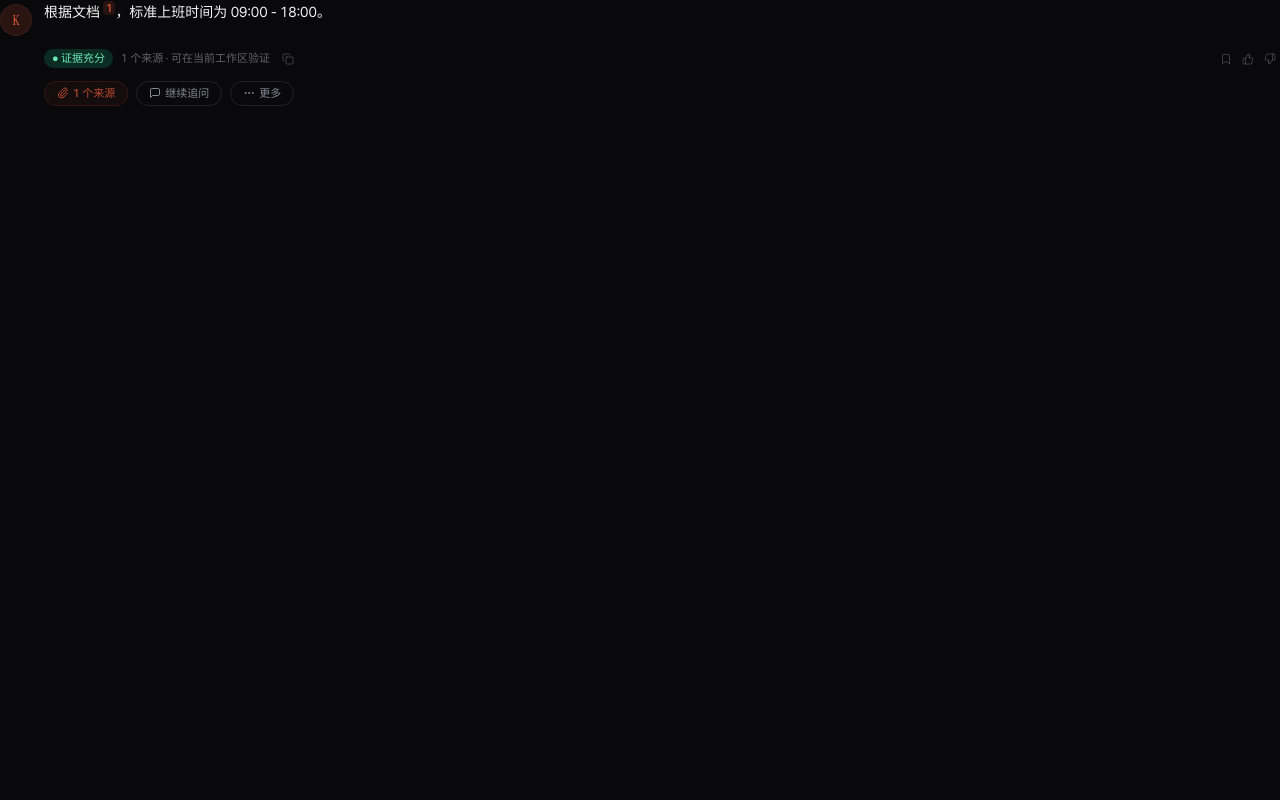
MessageBubble › opens and closes the bookmark dialog, then saves a note
Click the button named "收藏回答" at x=1226, y=58, box x1=1216 y1=48 x2=1236 y2=68
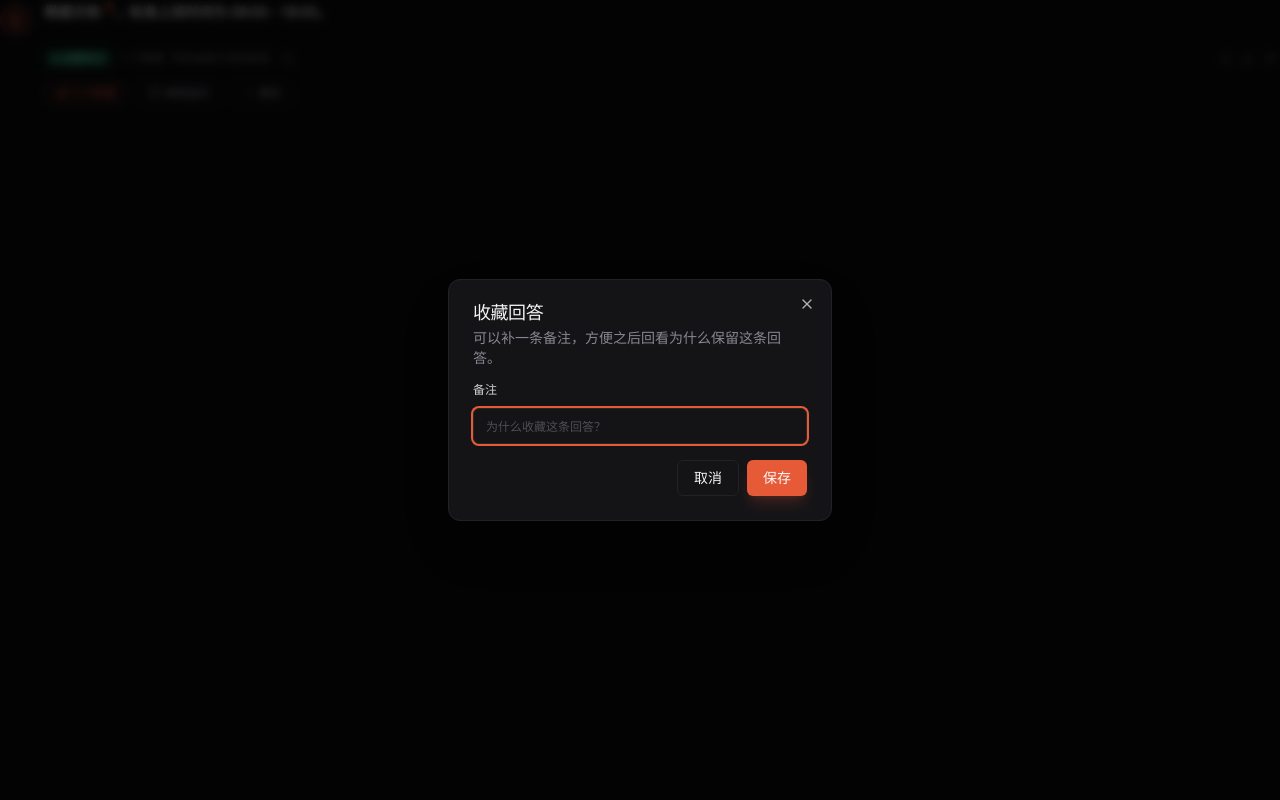
Check: the dialog "收藏回答" is shown, box x1=448 y1=279 x2=832 y2=521
Check: the element with class "inset-0" is shown
Click the element with class "inset-0" at x=77, y=400, box x1=0 y1=0 x2=1279 y2=799
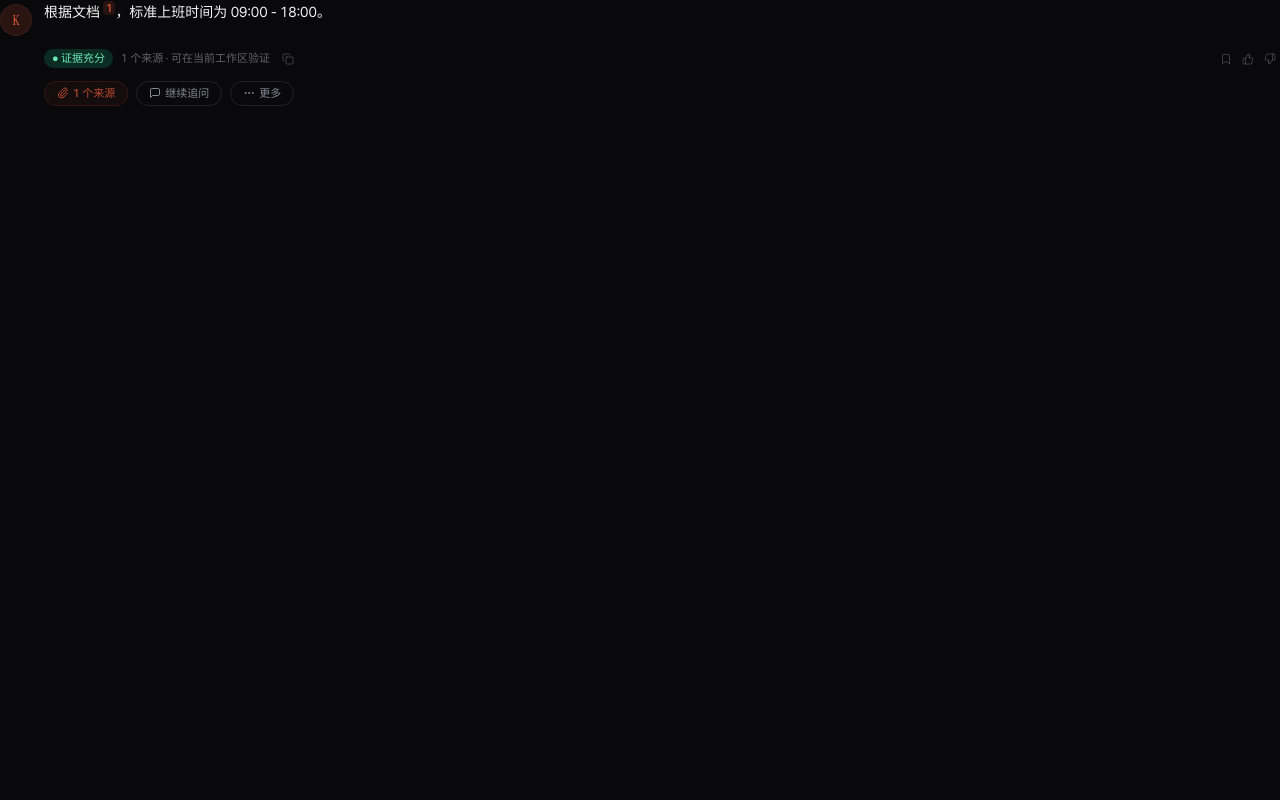
Check: the heading "收藏回答" is gone
Click the button named "收藏回答" at x=1226, y=58, box x1=1216 y1=48 x2=1236 y2=68
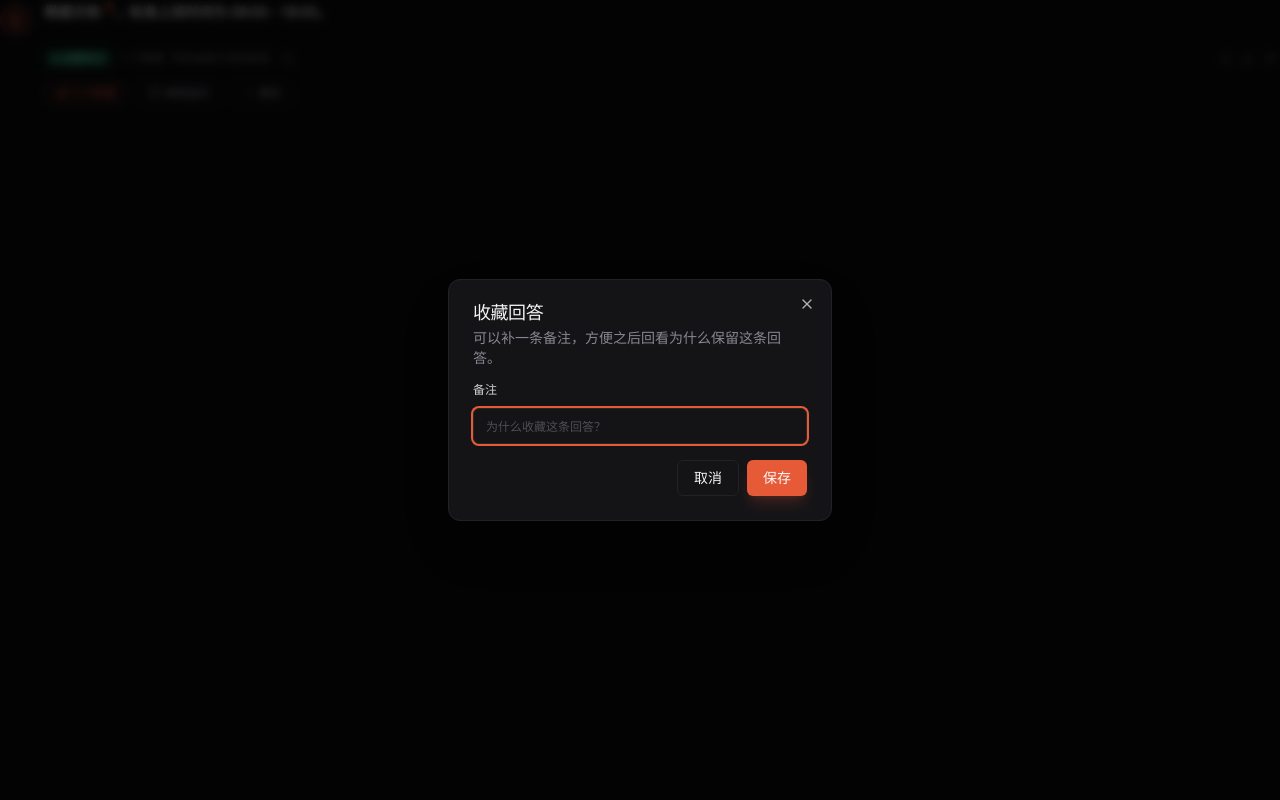
Type "用于核对考勤" into the field labelled "备注" at x=640, y=426, box x1=473 y1=408 x2=807 y2=444
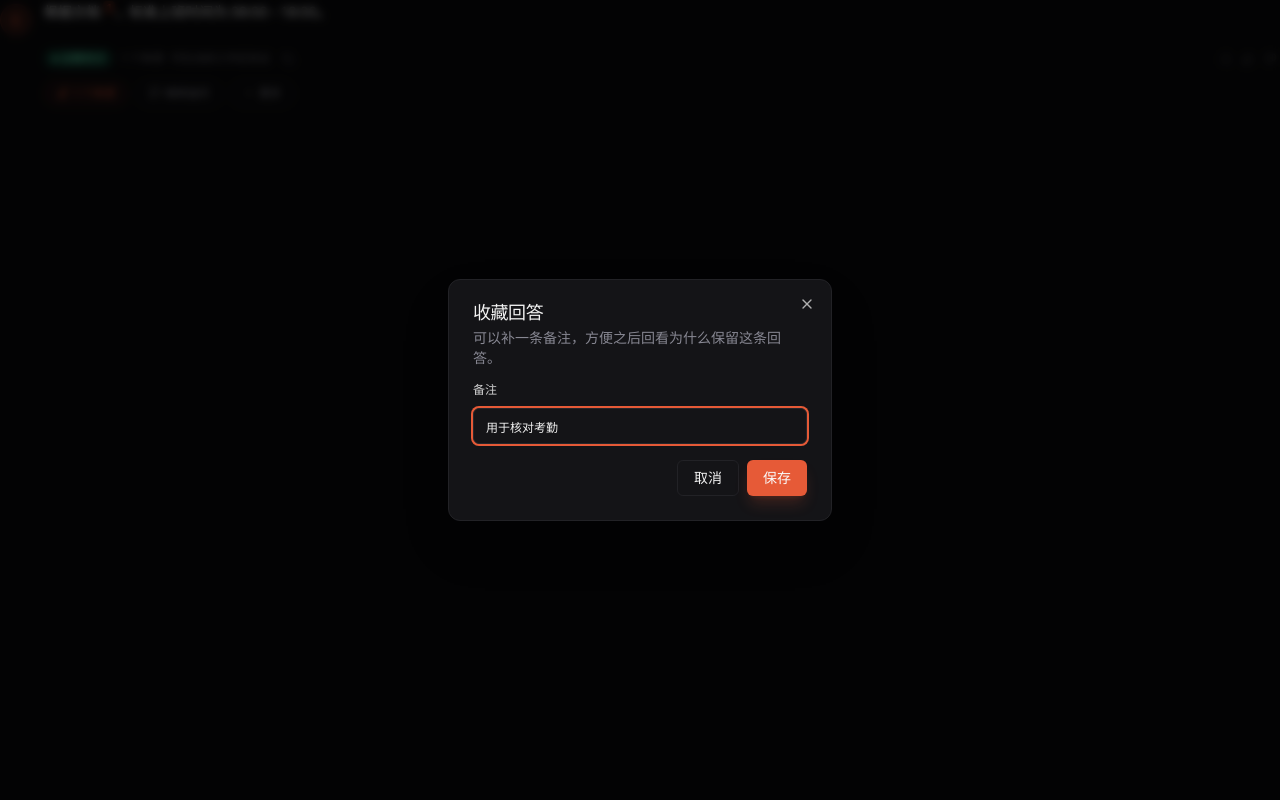
Click the button "保存" at x=777, y=478, box x1=747 y1=460 x2=807 y2=496
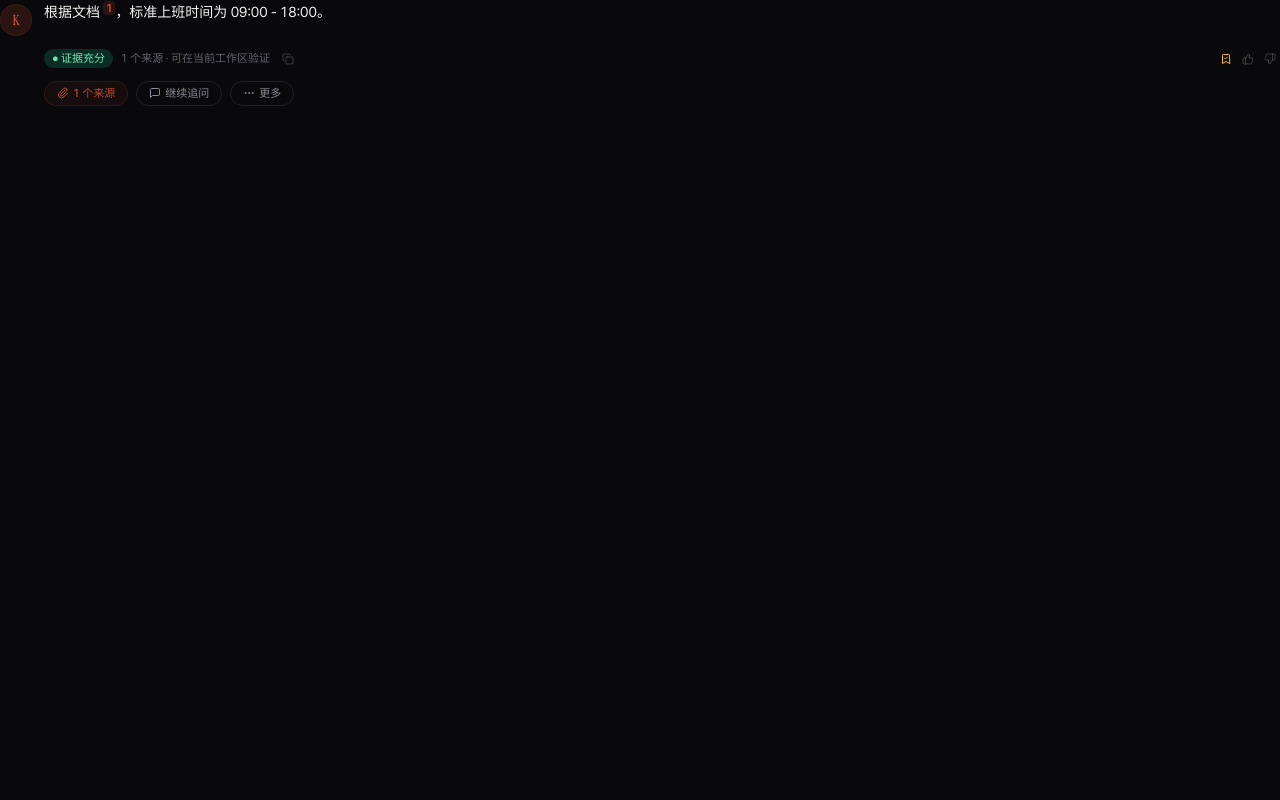
Check: the heading "收藏回答" is gone
